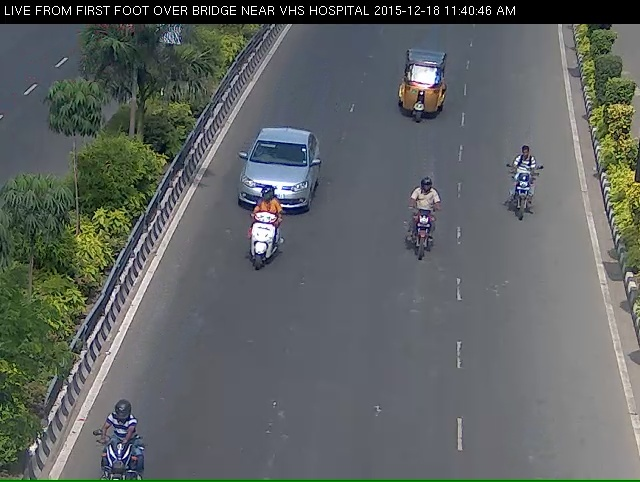Car: (224, 138, 325, 234), (392, 52, 449, 137)
Person: (402, 198, 444, 284), (507, 144, 547, 234), (236, 214, 272, 301)
